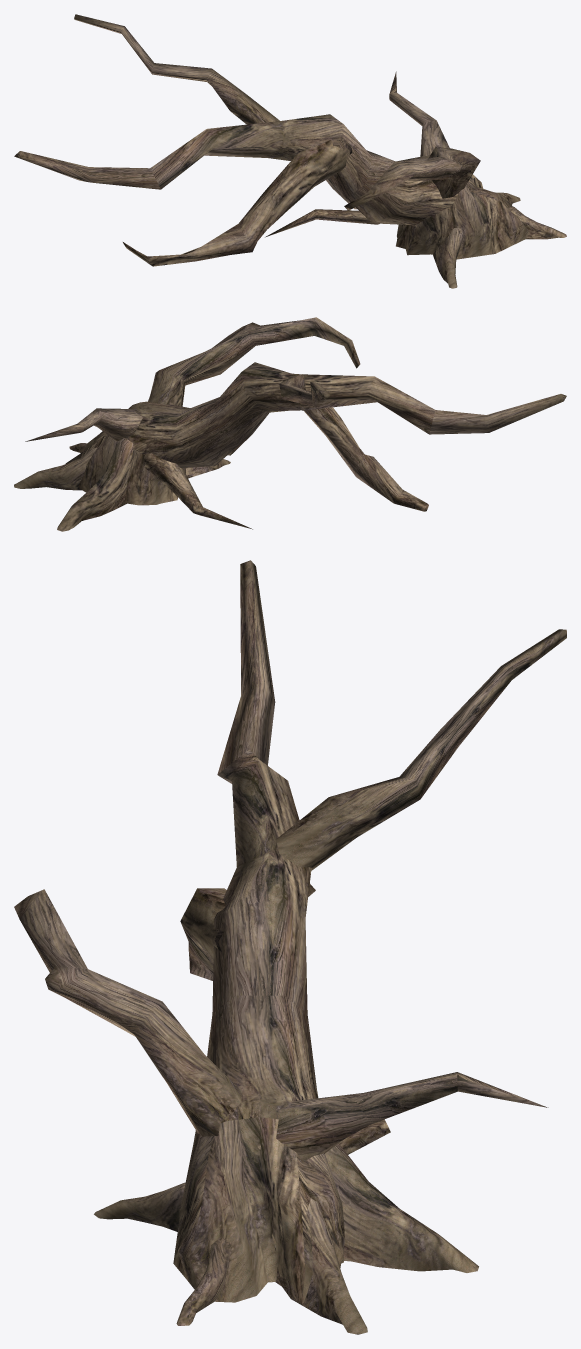
The model's file is kushu_xb_40.FBX.
3 renders of one model, top to bottom at view 1: azimuth 30°, elevation 25°; view 2: azimuth 150°, elevation 25°; view 3: azimuth 270°, elevation 25°, orthographic. The views are drawn at different scales.
Parts seen in each view (by area): view 1: kushu_xb_40; view 2: kushu_xb_40; view 3: kushu_xb_40.
Boxes of the visible parts, box(x1,y1,x2,y2) form: kushu_xb_40: box(14, 14, 566, 288); kushu_xb_40: box(14, 317, 566, 531); kushu_xb_40: box(14, 560, 566, 1334).
Size of what is drawn, in the model's own units: 402 by 167 by 213.
